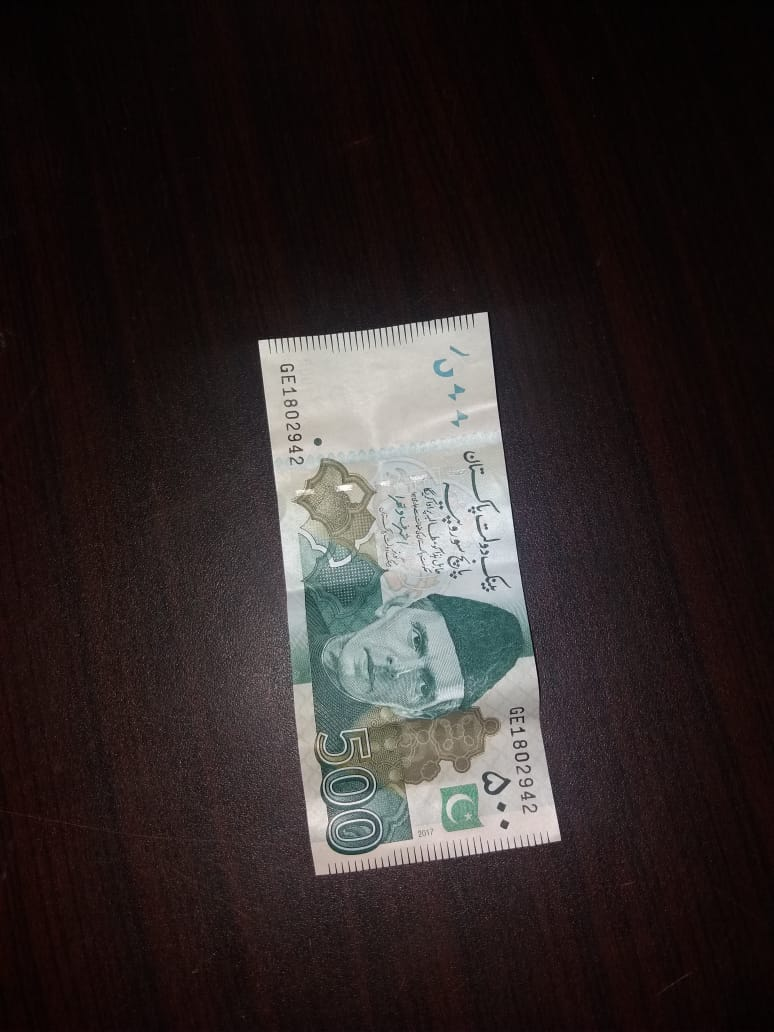500 rupee: (235, 301, 574, 898)
